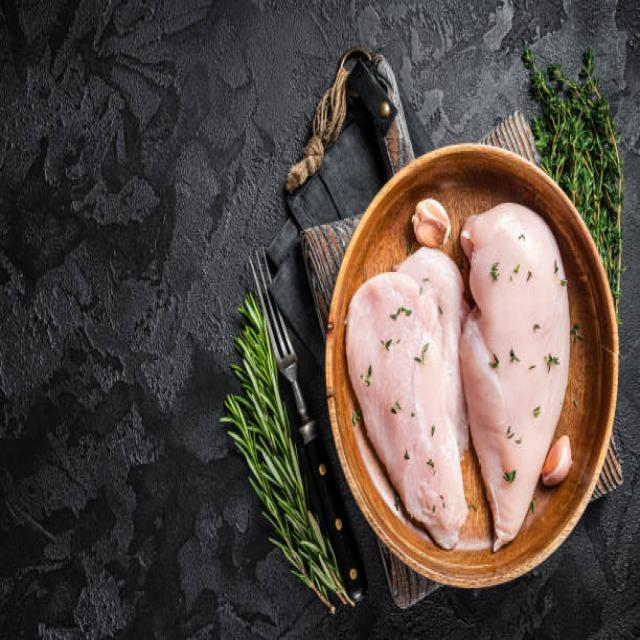Chicken: (354, 229, 469, 541), (468, 209, 569, 543)
